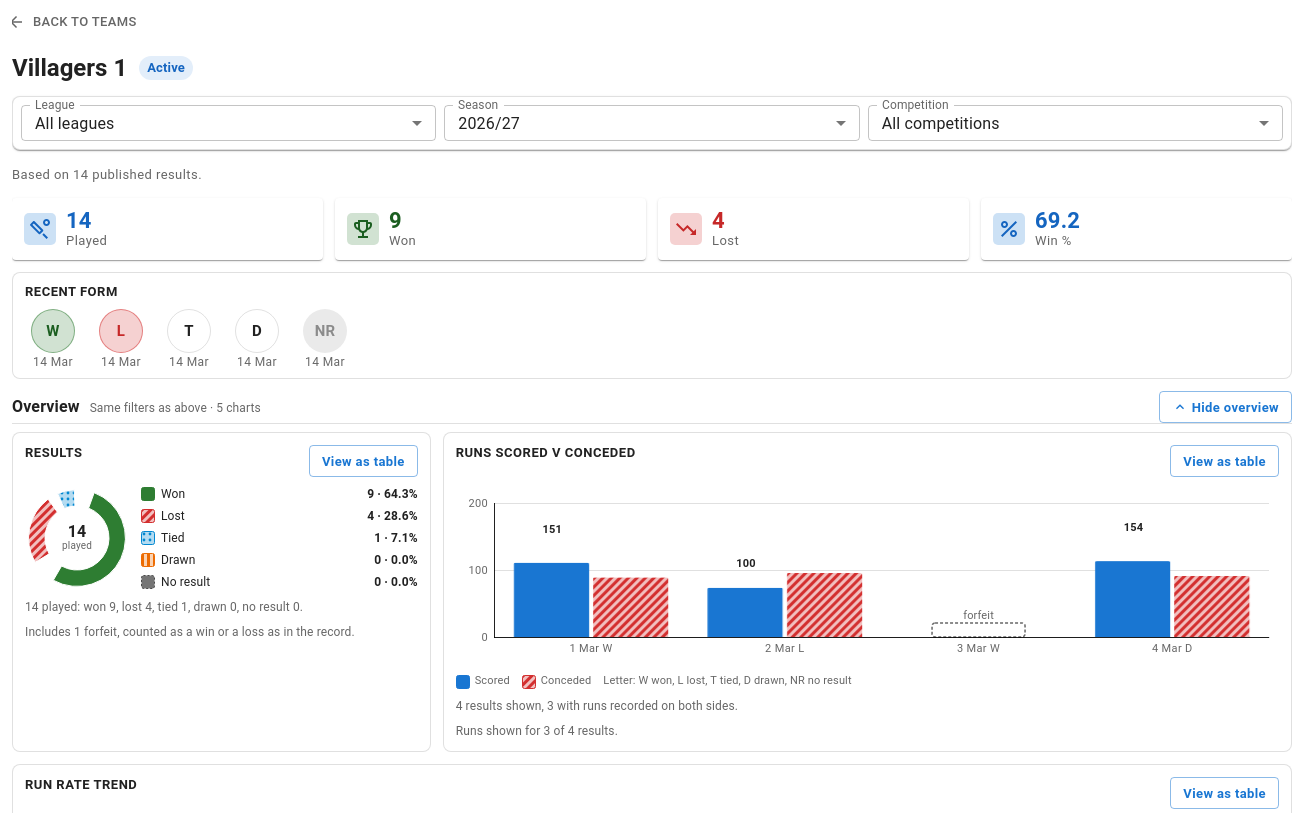
Test: Team Overview block › Hide and Show › makes no request for the overview while hidden, and asks again with the current filters when shown
The image size is (1304, 813).
Expected: the element with test id "dashboard-card-results" is shown, top-left (12, 432), bottom-right (431, 752)
Click the button with test id "team-dashboard-toggle". click: (1225, 407)
box: top-left (1159, 391), bottom-right (1292, 423)
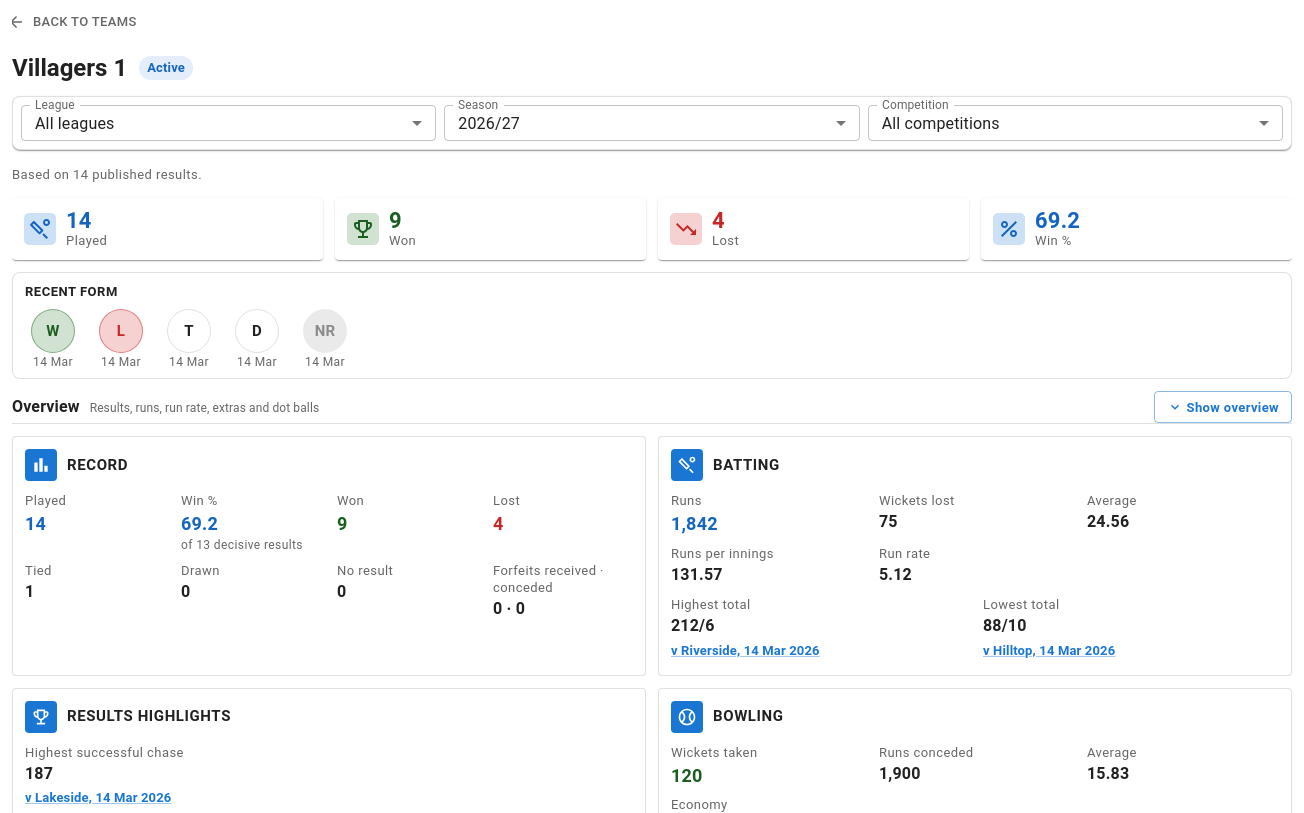
Expected: the element with test id "dashboard-card-results" is gone
# a filter change while hidden refetches the figures but not the overview
Click the dropdown named "Season". click: (489, 123)
box: top-left (458, 114), bottom-right (520, 132)
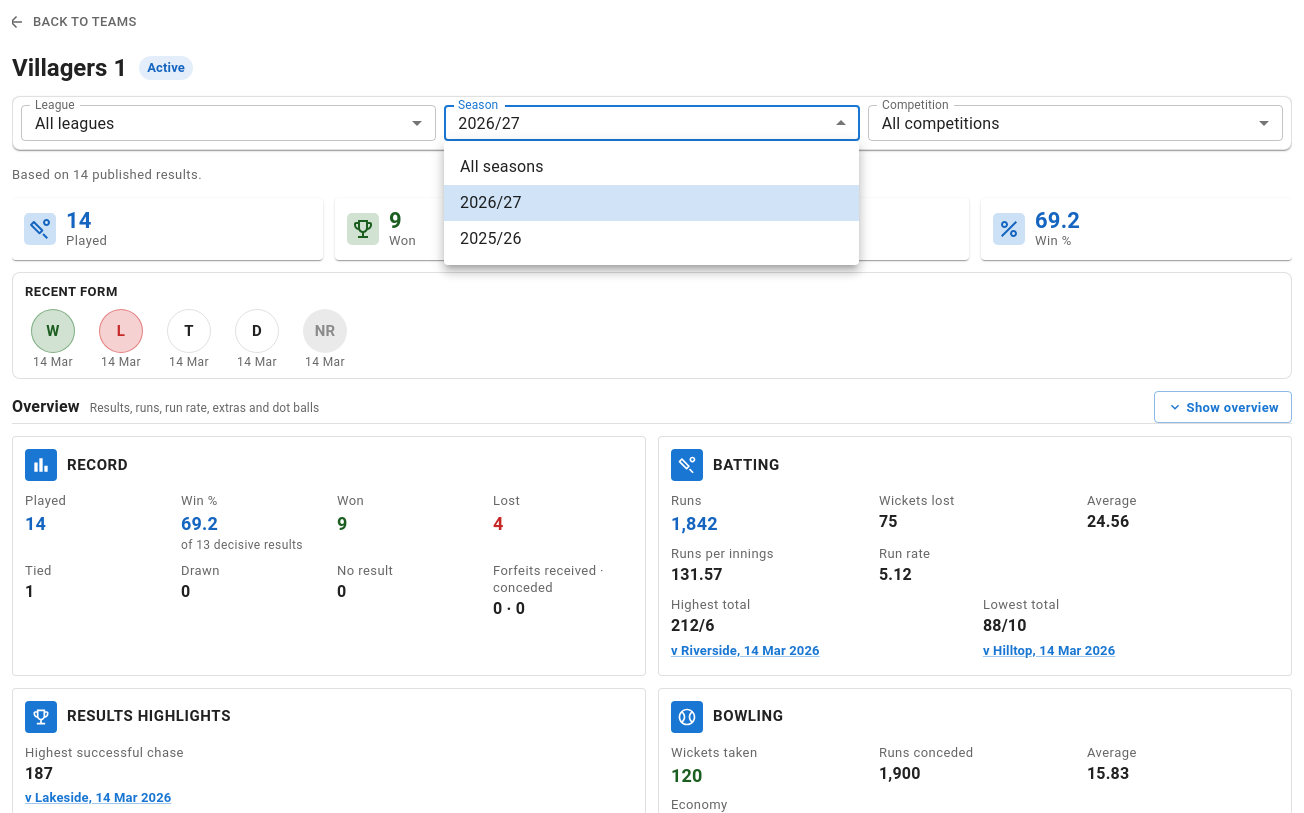
Click the option "2025/26". click: (491, 238)
box: top-left (460, 229), bottom-right (522, 248)
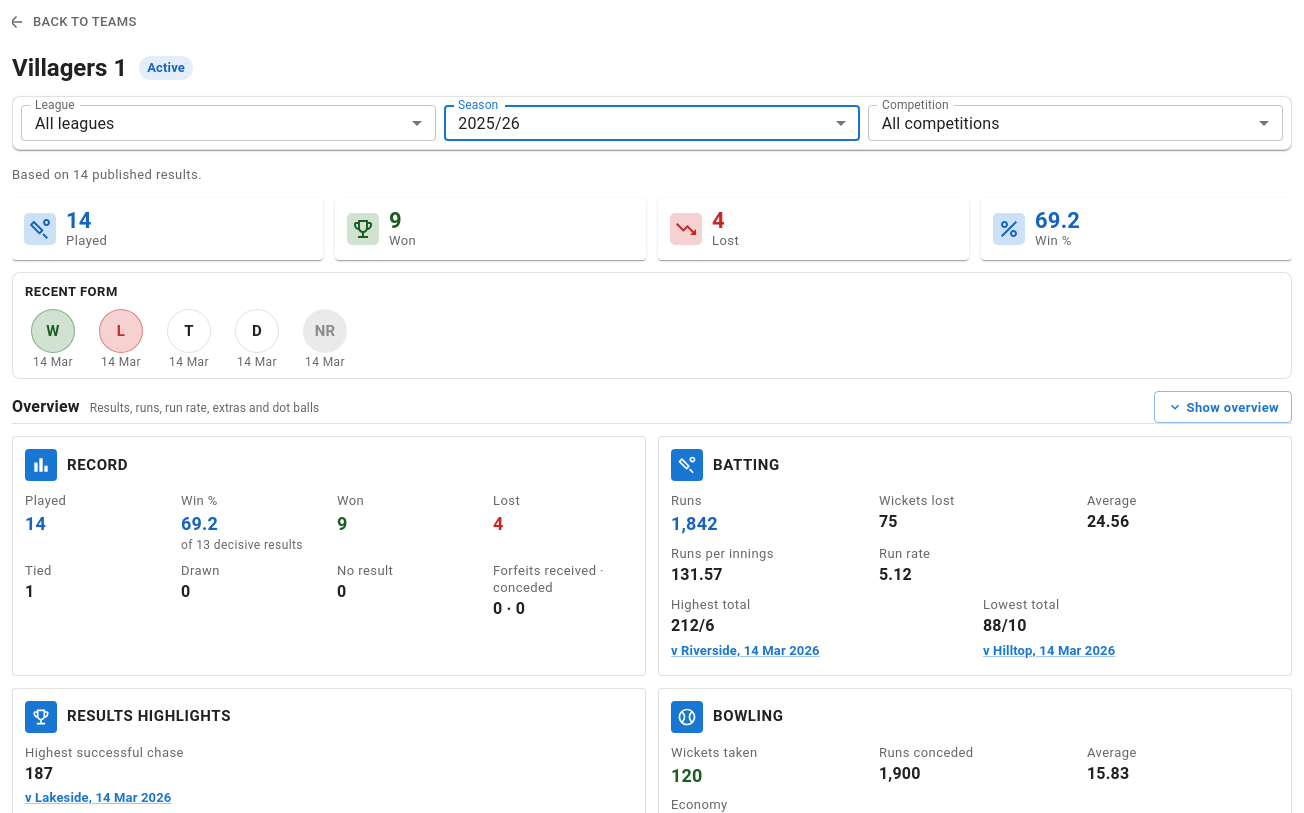
Click the button with test id "team-dashboard-toggle". click: (1223, 407)
box: top-left (1154, 391), bottom-right (1292, 423)
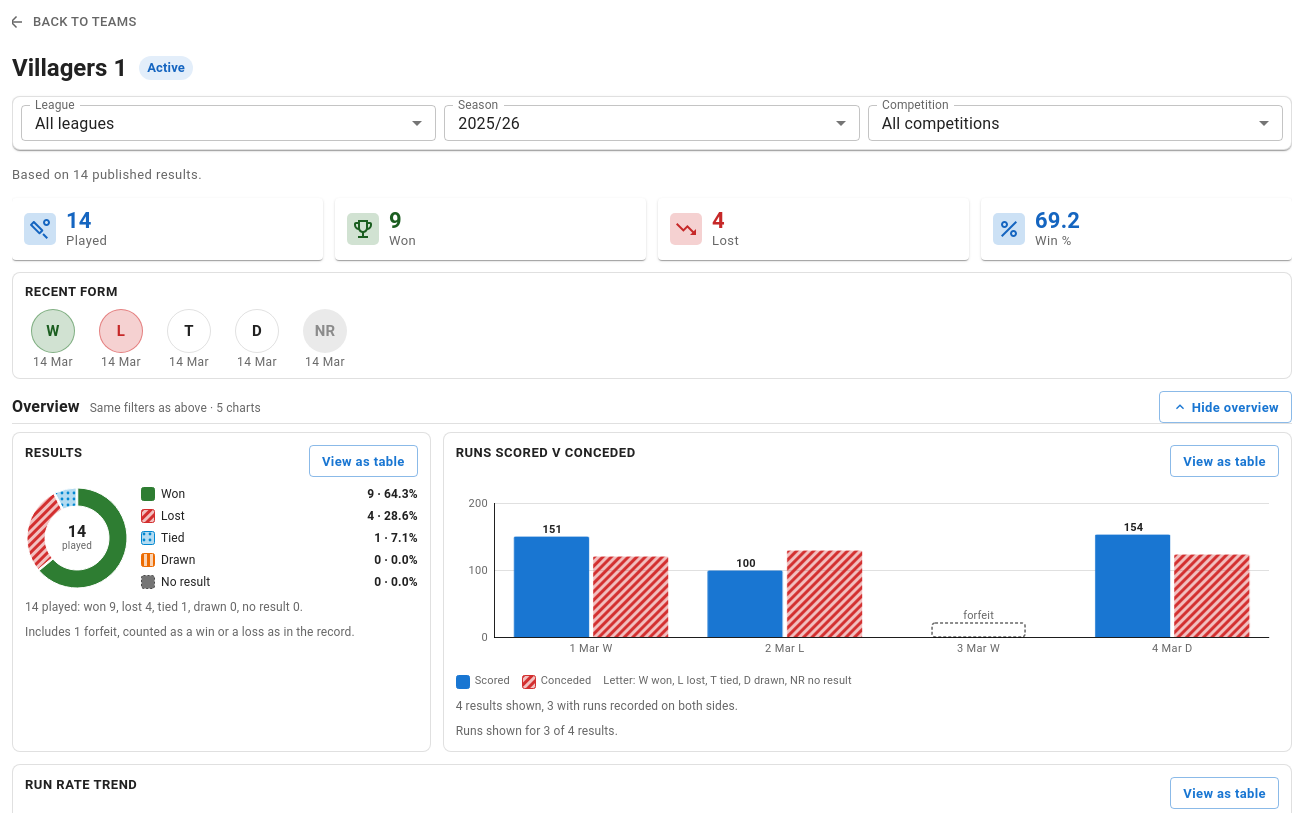
Expected: the element with test id "dashboard-card-results" is shown, top-left (12, 432), bottom-right (431, 752)
